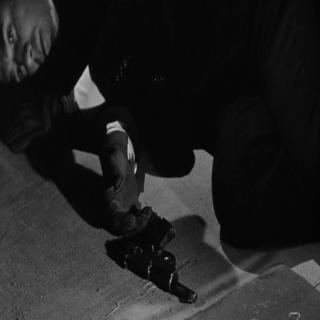gun: (102, 211, 202, 307)
